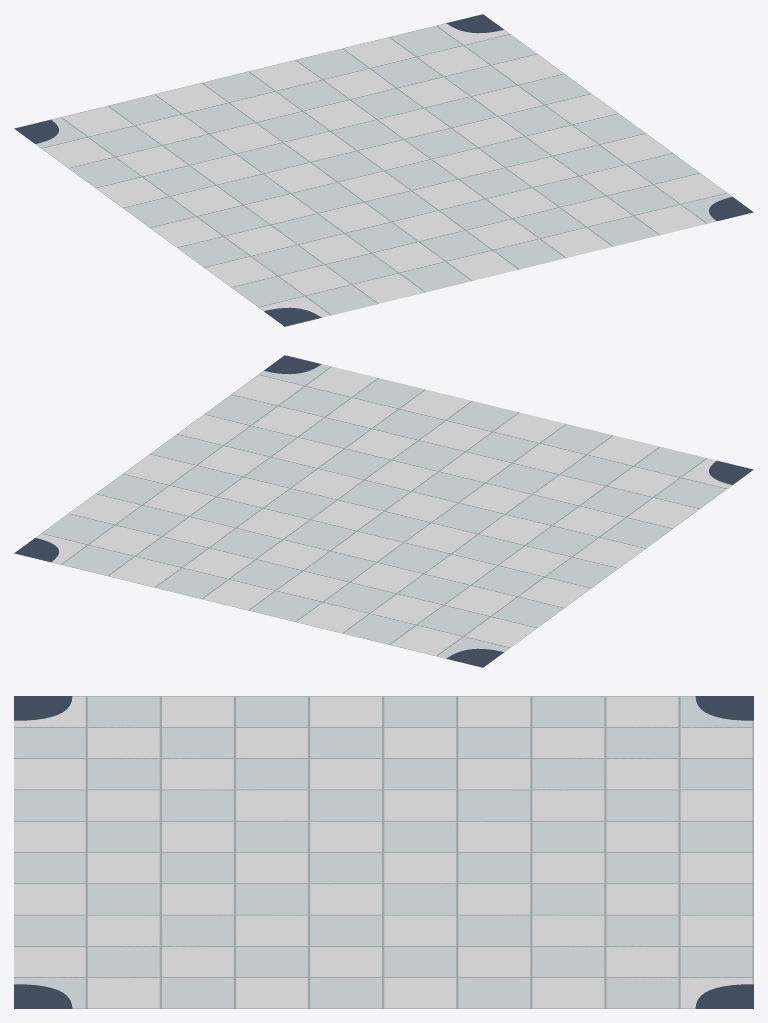
The model's file is Floor Ground Center.fbx.
3 renders of one model, top to bottom at view 1: azimuth 30°, elevation 25°; view 2: azimuth 150°, elevation 25°; view 3: azimuth 270°, elevation 25°, orthographic. The views are drawn at different scales.
Visible parts, largest first — view 1: Floor Ground Center; view 2: Floor Ground Center; view 3: Floor Ground Center.
Part boxes in pixels (bbox=[...]): Floor Ground Center: bbox=[14, 14, 753, 326]; Floor Ground Center: bbox=[14, 355, 753, 667]; Floor Ground Center: bbox=[14, 696, 753, 1008].
Bounding box in the file's own units: 52.71 × 2.3e-06 × 52.71.
Materials: 2 (1 with a texture image).
